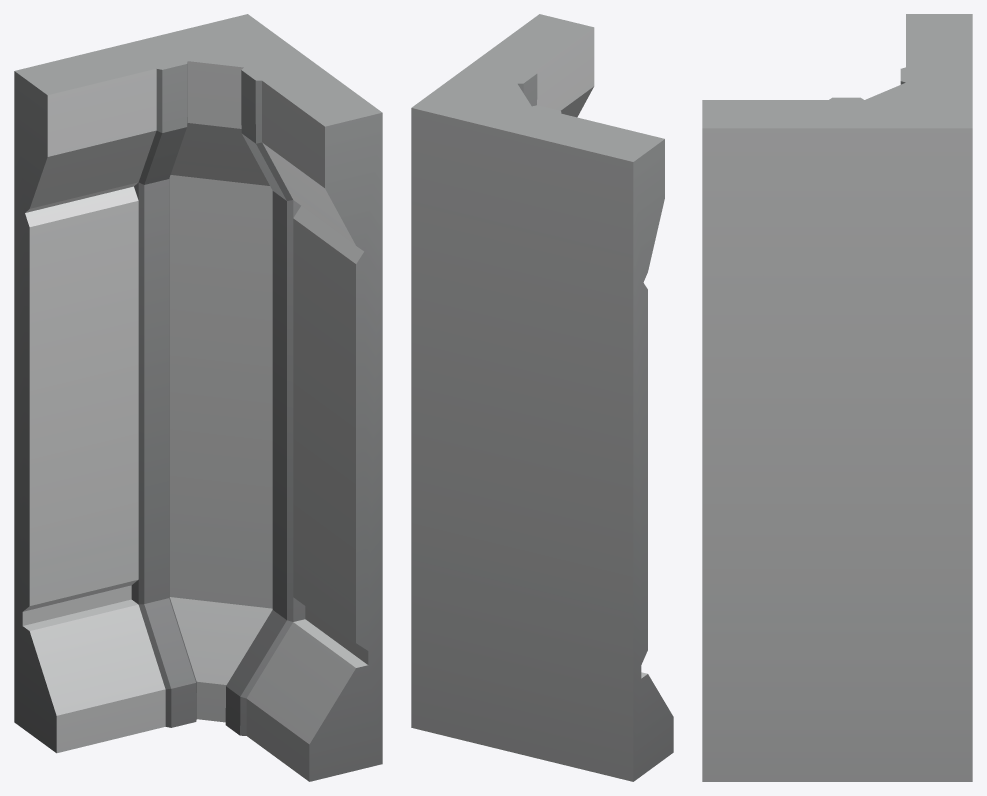
File: Wall_type_A_004.fbx
The picture shows the model from 3 angles, left to right: view 1: azimuth 30°, elevation 25°; view 2: azimuth 150°, elevation 25°; view 3: azimuth 270°, elevation 25°; orthographic projection. The views are drawn at different scales.
Parts seen in each view (by area): view 1: Wall_type_A_004; view 2: Wall_type_A_004; view 3: Wall_type_A_004.
Boxes of the visible parts, x1,y1,x2,y2 form: Wall_type_A_004: [14, 14, 382, 781]; Wall_type_A_004: [411, 14, 673, 781]; Wall_type_A_004: [702, 14, 972, 781].
Bounding box in the file's own units: 150 × 150 × 400.
